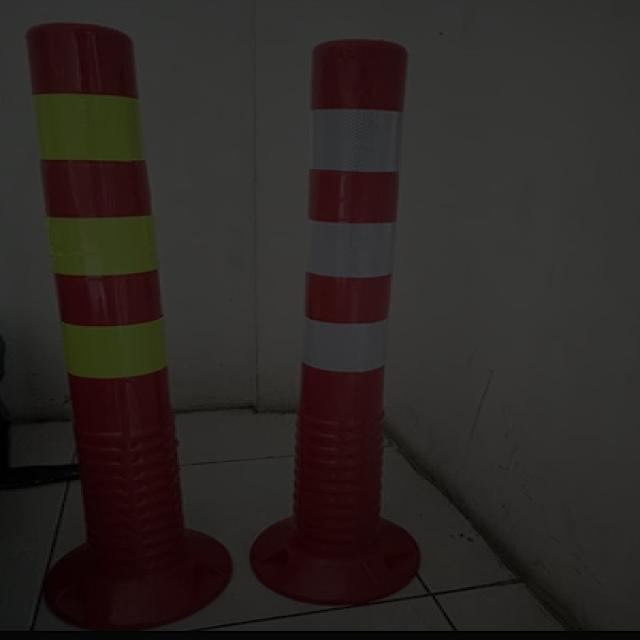Bollard: (21, 19, 200, 560), (291, 34, 418, 547)
